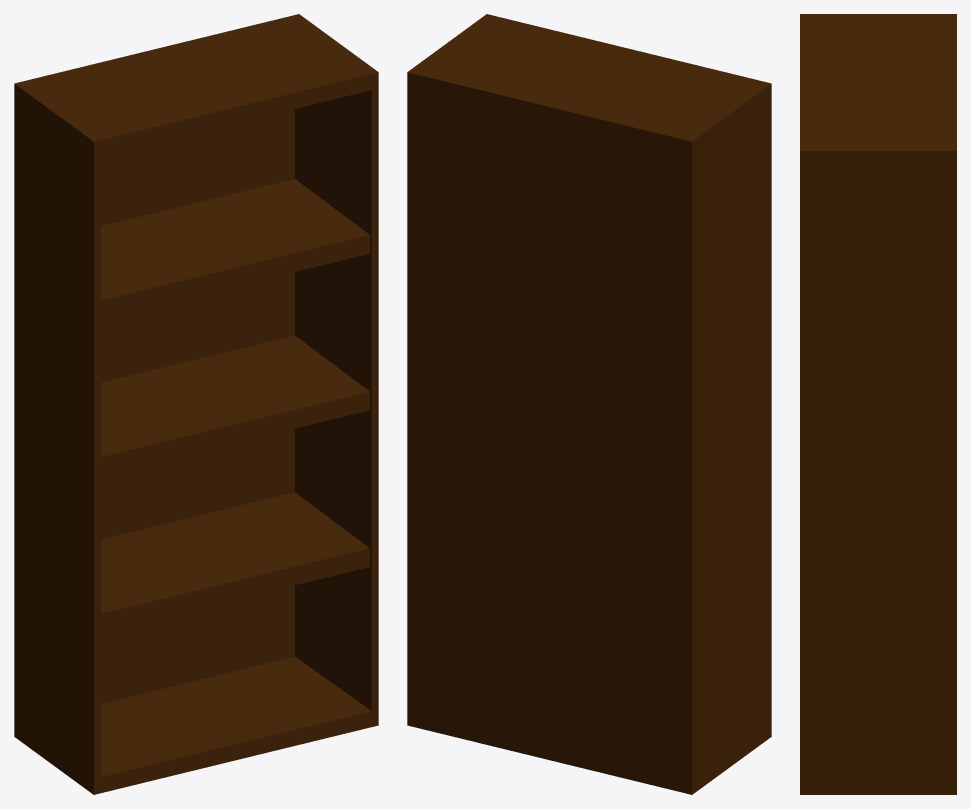
Rendered from TallMediumShelves.fbx.
3 views of the same model, side by side, from view 1: azimuth 30°, elevation 25°; view 2: azimuth 150°, elevation 25°; view 3: azimuth 270°, elevation 25° (orthographic).
Parts seen in each view (by area): view 1: Cube; view 2: Cube; view 3: Cube.
Part boxes in pixels (box(x1,y1,x2,y2)): Cube: box(14, 14, 378, 794); Cube: box(407, 14, 771, 794); Cube: box(800, 14, 956, 794).
Bounding box in the file's own units: 605 × 1326 × 293.
